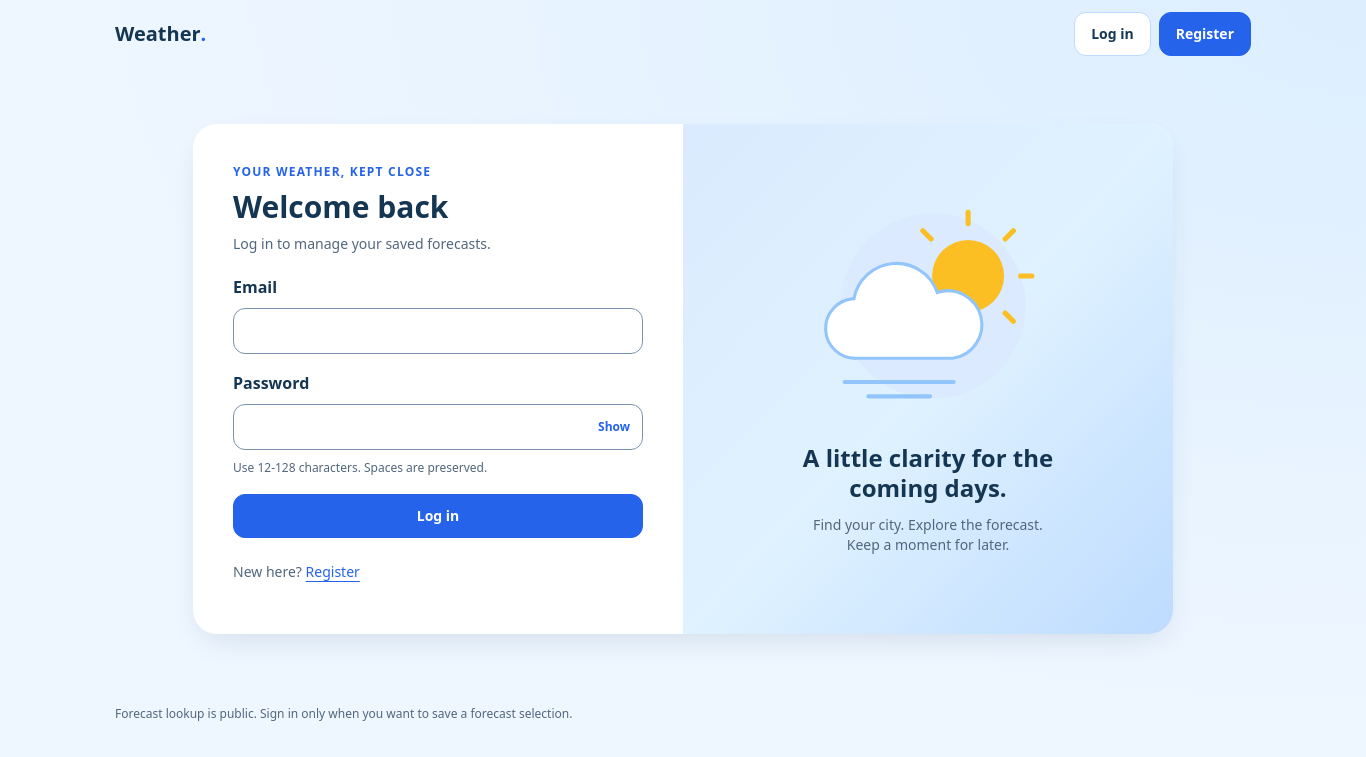
weather and authentication journeys › keeps credential failures generic and preserves values for retry
The image size is (1366, 757).
Expected: the button "Log in" is enabled, [233,494,643,538]
In the field labelled "Email": (438, 330) [233,308,643,354], type "reader@example.test"
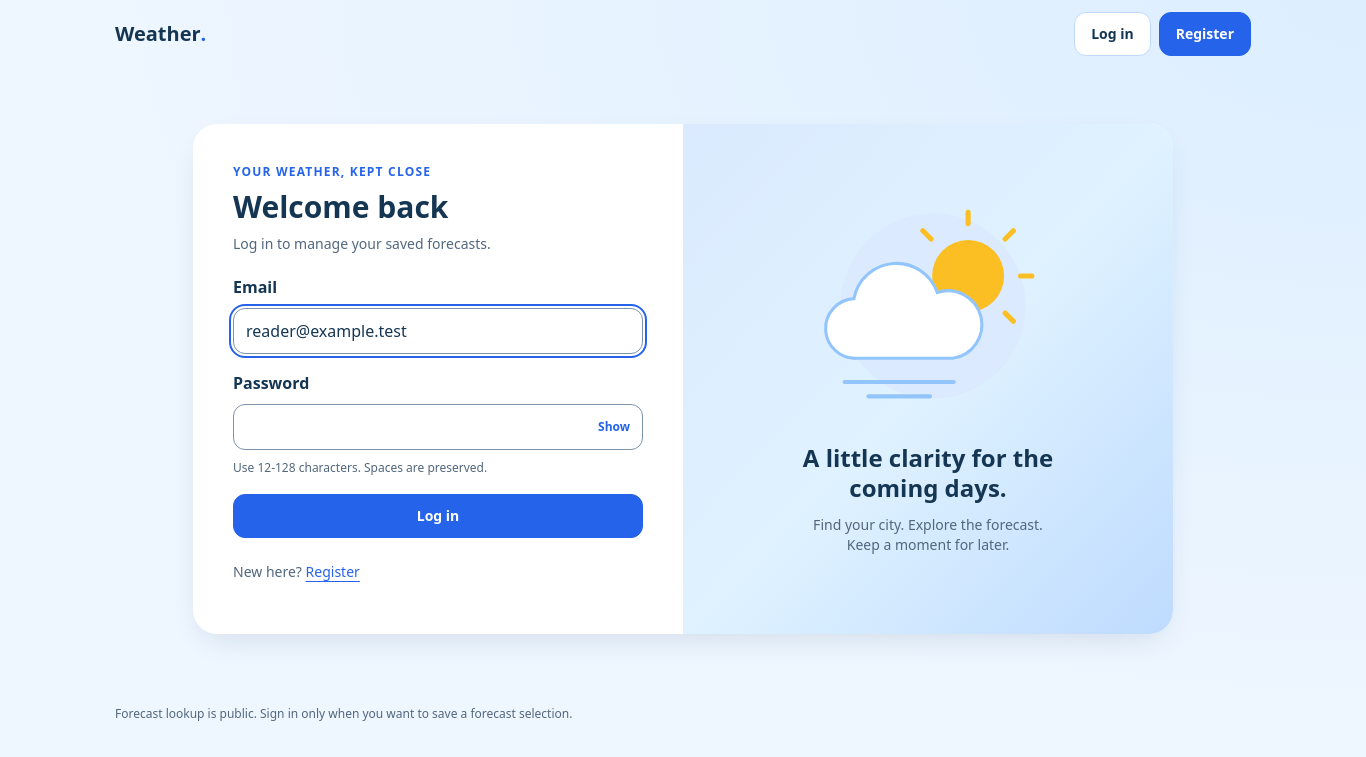
In the password field labelled "Password": (438, 426) [233,404,643,450], type "synthetic-password"
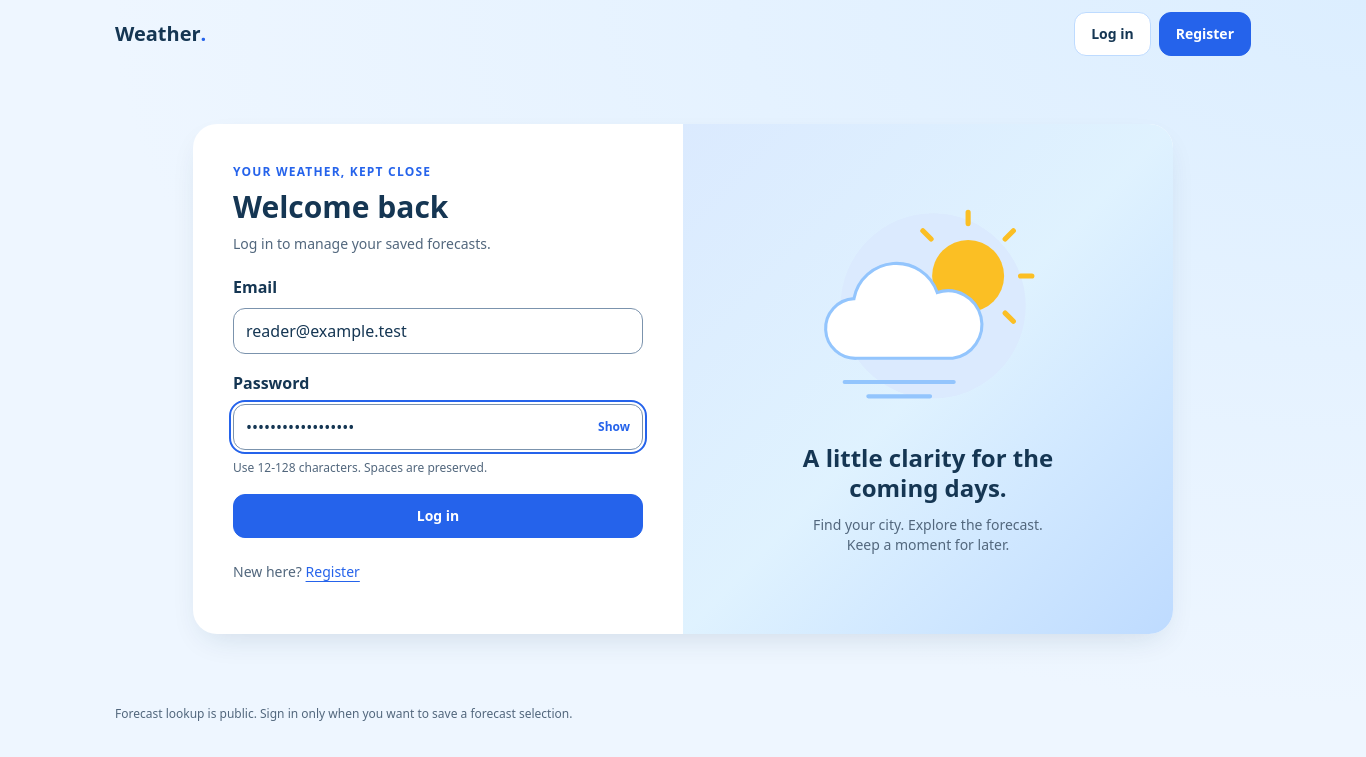
Click the button "Log in": (438, 516) [233,494,643,538]
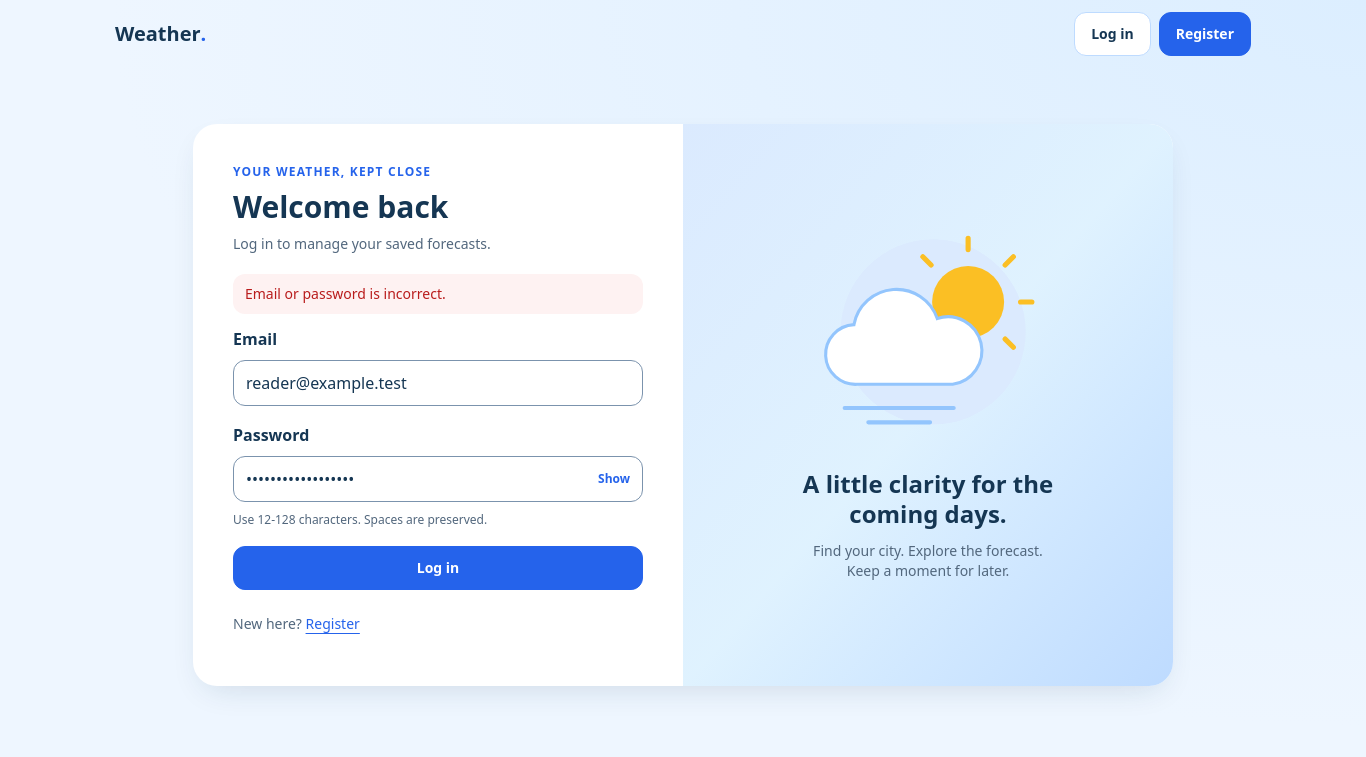
Now the text "Email or password is incorrect." is shown, box [245,284,446,302]
